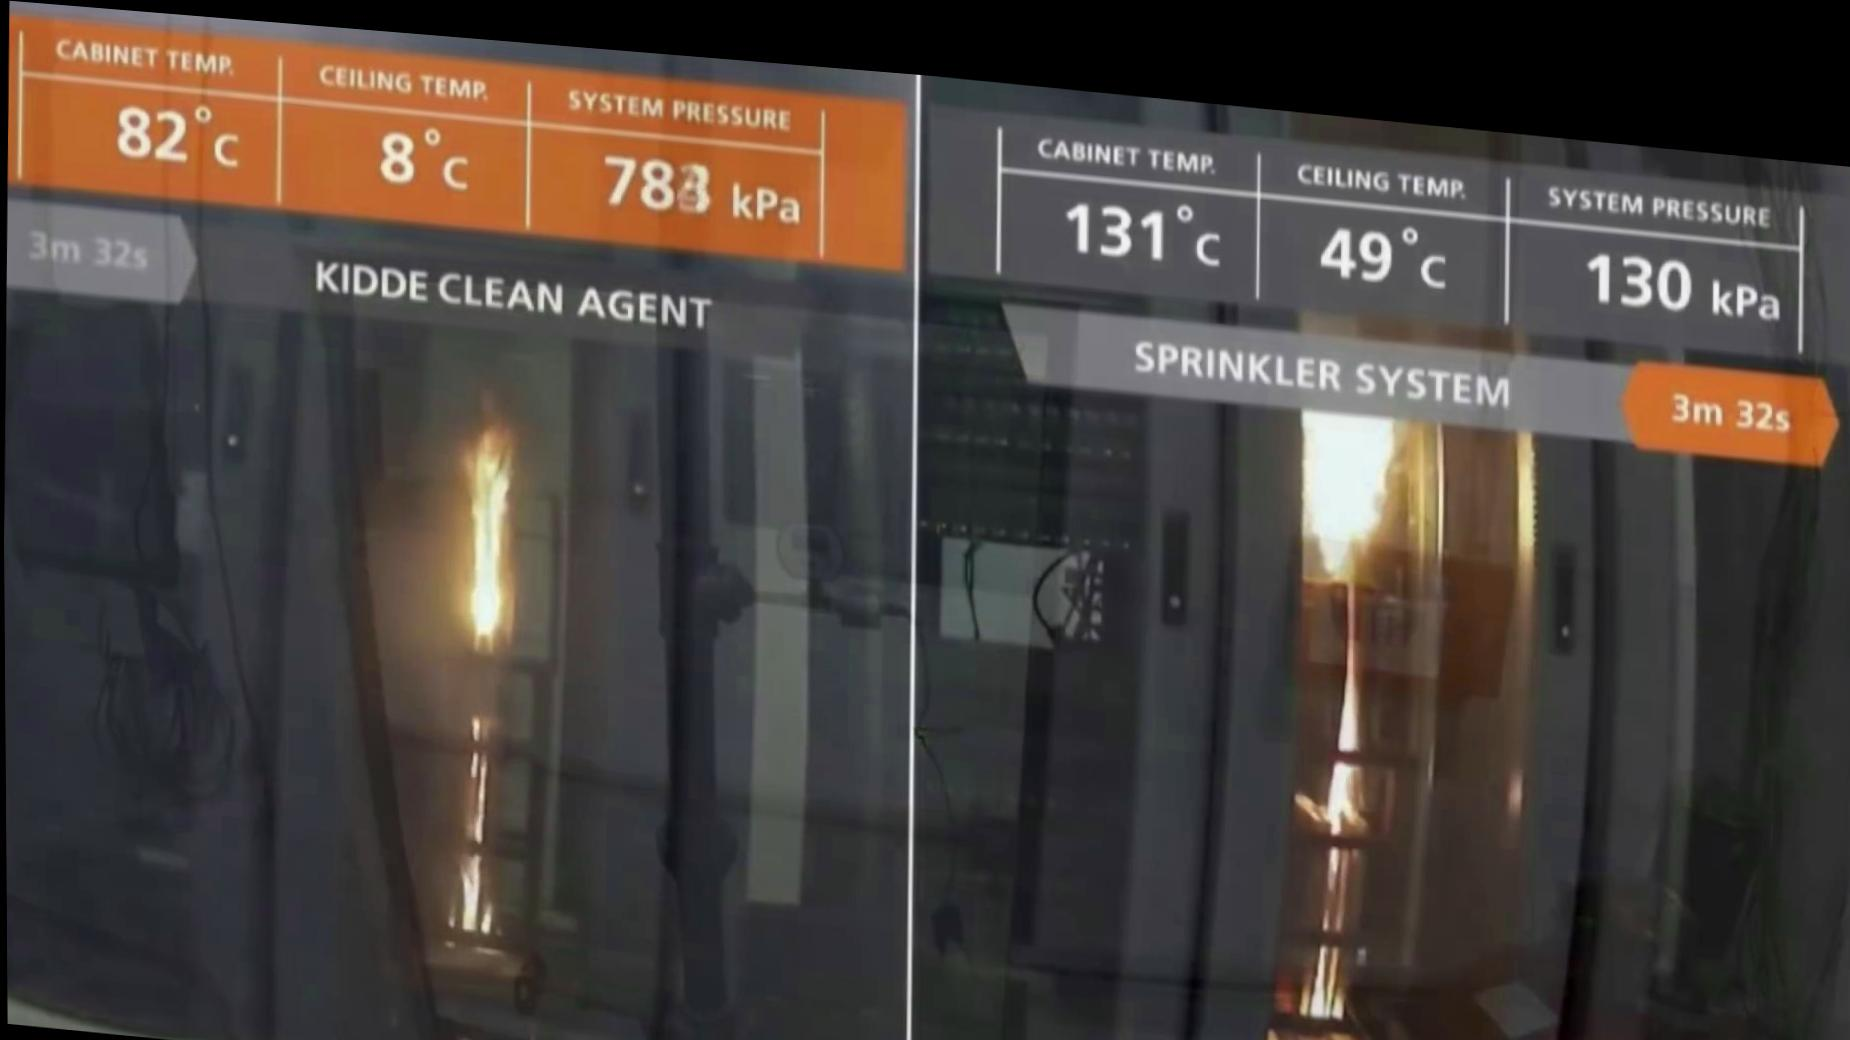fire: (1224, 104, 1664, 1040)
